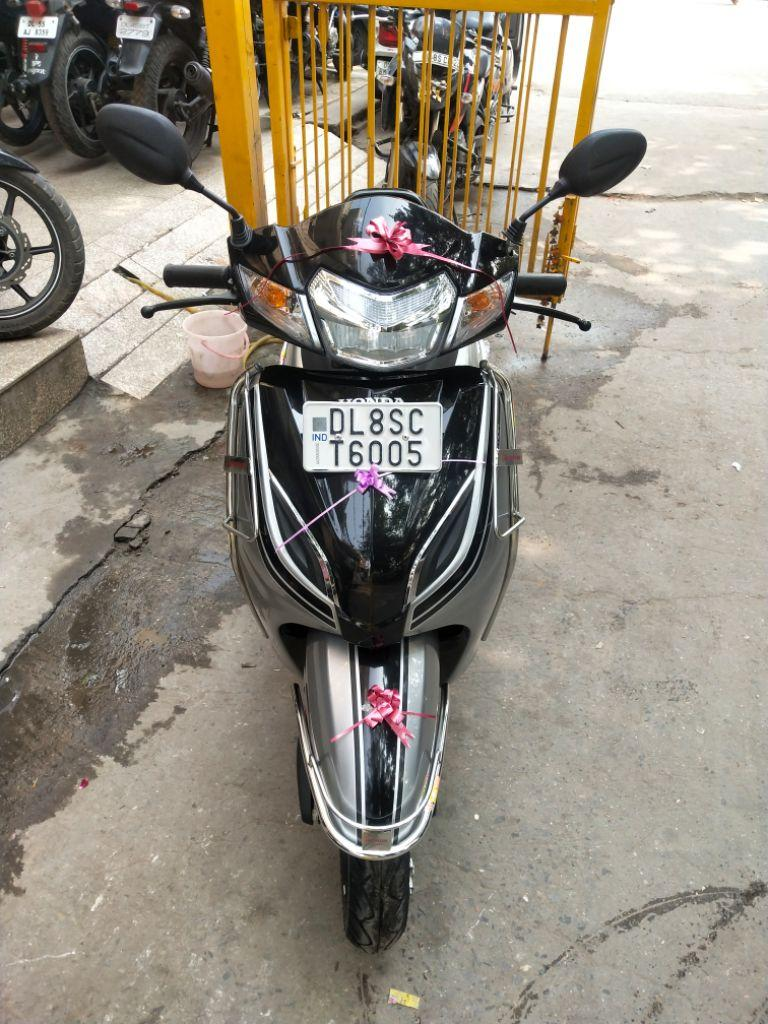doublelinenumberplate: (301, 397, 444, 474)
